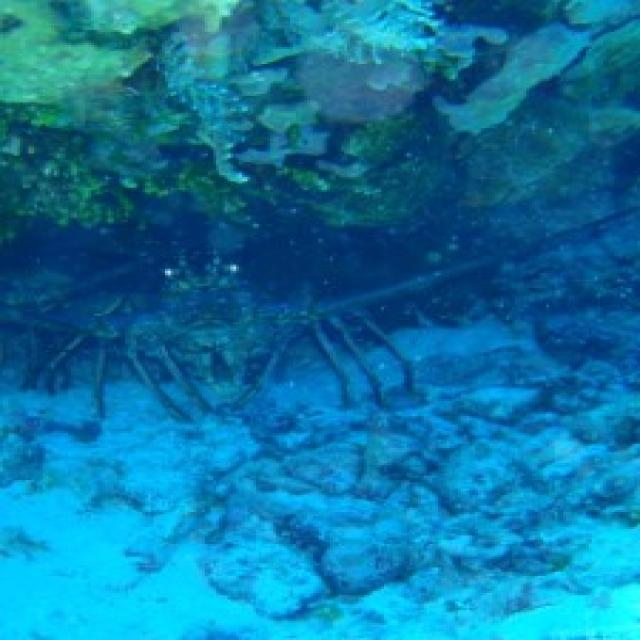lobsters: (36, 227, 504, 428)
